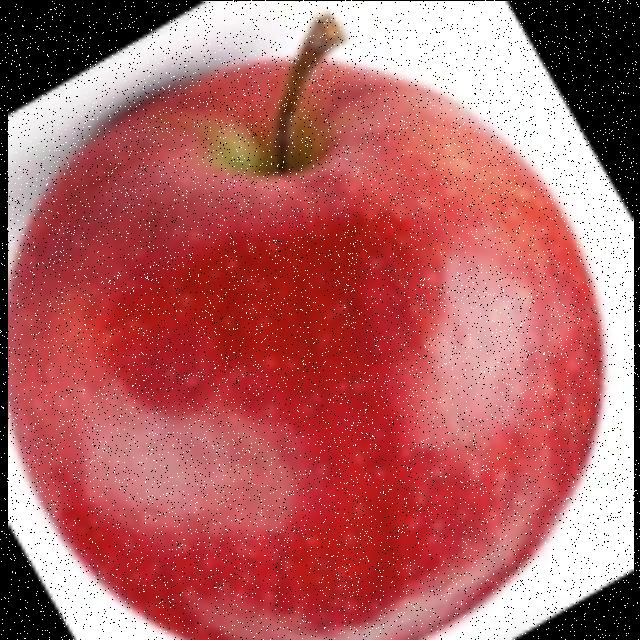Apel Segar: (7, 14, 616, 640)
